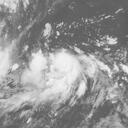cyclone: (21, 47, 82, 106)
